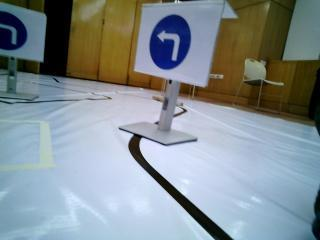left: (137, 7, 203, 71)
